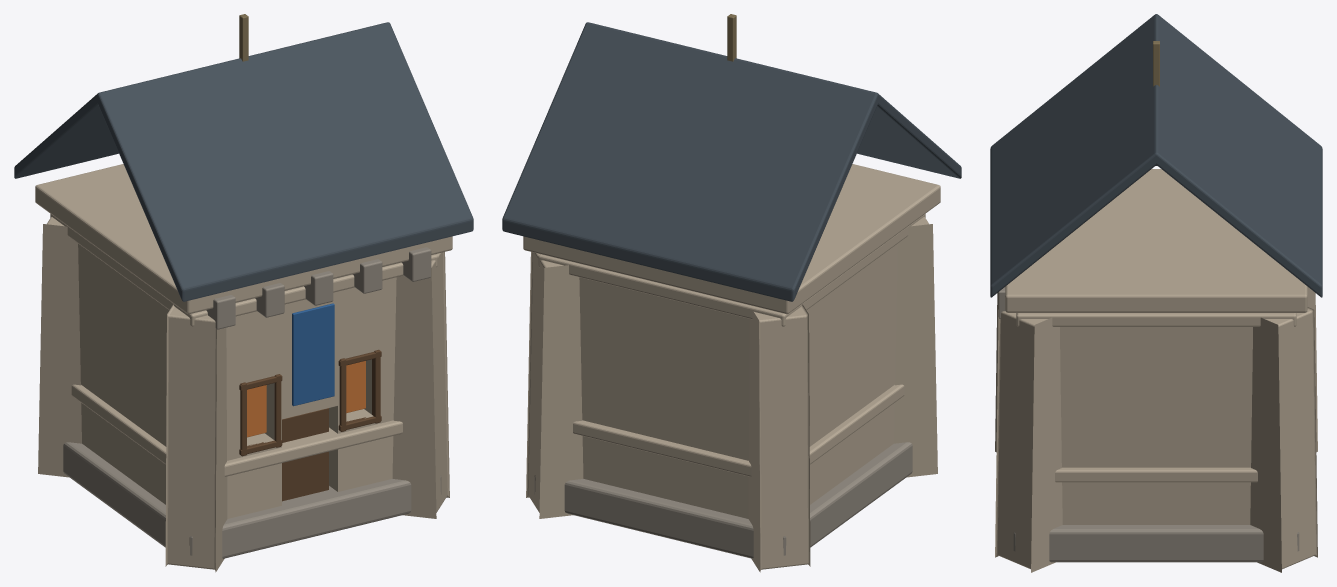
The model's file is Valoria_Tower_v1.glb.
3 views of the same model, side by side, from view 1: azimuth 30°, elevation 25°; view 2: azimuth 150°, elevation 25°; view 3: azimuth 270°, elevation 25° (orthographic).
Parts seen in each view (by area): view 1: tower high roof, tower body, stone buttress.004, stone buttress.006, tower plinth, tower machicolation, stone buttress.005, tower belt, tower banner.002, door leaf, tower crown, window recess.001 (+7 smaller); view 2: tower high roof, tower body, stone buttress.005, stone buttress.007, tower machicolation, tower plinth, stone buttress.004, tower belt, tower crown; view 3: tower high roof, tower body, tower machicolation, stone buttress.007, stone buttress.006, tower plinth, tower crown, tower belt, stone buttress.005.
Boxes of the visible parts, <box> form: tower high roof: <box>14,22,473,301</box>; tower body: <box>78,243,396,518</box>; stone buttress.004: <box>165,304,227,572</box>; stone buttress.006: <box>392,252,449,518</box>; tower plinth: <box>63,442,441,558</box>; tower machicolation: <box>35,164,452,314</box>; stone buttress.005: <box>38,217,81,477</box>; tower belt: <box>71,384,402,476</box>; tower banner.002: <box>292,303,334,406</box>; door leaf: <box>282,408,328,501</box>; tower crown: <box>50,214,437,326</box>; window recess.001: <box>346,361,365,412</box>; tower high roof: <box>502,22,961,301</box>; tower body: <box>579,243,897,518</box>; stone buttress.005: <box>748,304,810,572</box>; stone buttress.007: <box>526,252,583,518</box>; tower machicolation: <box>523,164,940,314</box>; tower plinth: <box>534,442,912,558</box>; stone buttress.004: <box>894,217,937,477</box>; tower belt: <box>573,384,904,476</box>; tower crown: <box>538,214,925,326</box>; tower high roof: <box>990,14,1322,297</box>; tower body: <box>1060,327,1252,524</box>; tower machicolation: <box>1005,169,1307,312</box>; stone buttress.007: <box>1250,307,1317,572</box>; stone buttress.006: <box>995,310,1062,572</box>; tower plinth: <box>1013,525,1299,562</box>; tower crown: <box>1016,313,1296,326</box>; tower belt: <box>1055,467,1257,482</box>; stone buttress.005: <box>1307,287,1317,452</box>.
Bounding box in the file's own units: 3.65 × 5.61 × 3.65.
